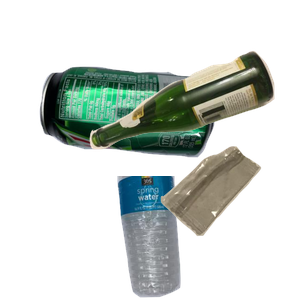glass: (87, 48, 300, 190)
metal: (37, 64, 245, 214)
plastic: (115, 176, 288, 300)
trash: (158, 144, 300, 300)
